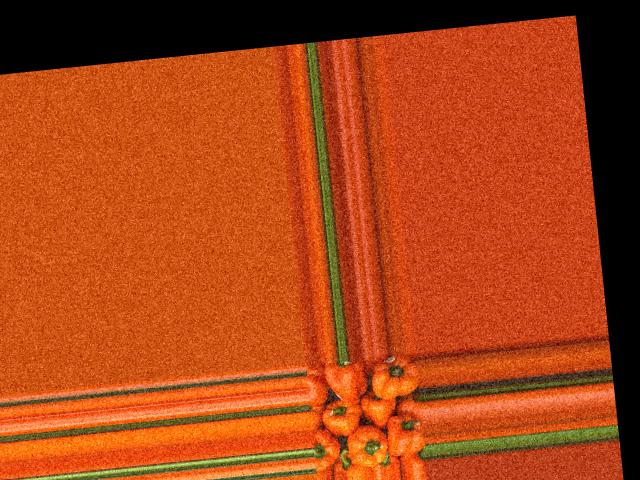bell_pepper: (306, 360, 328, 406)
